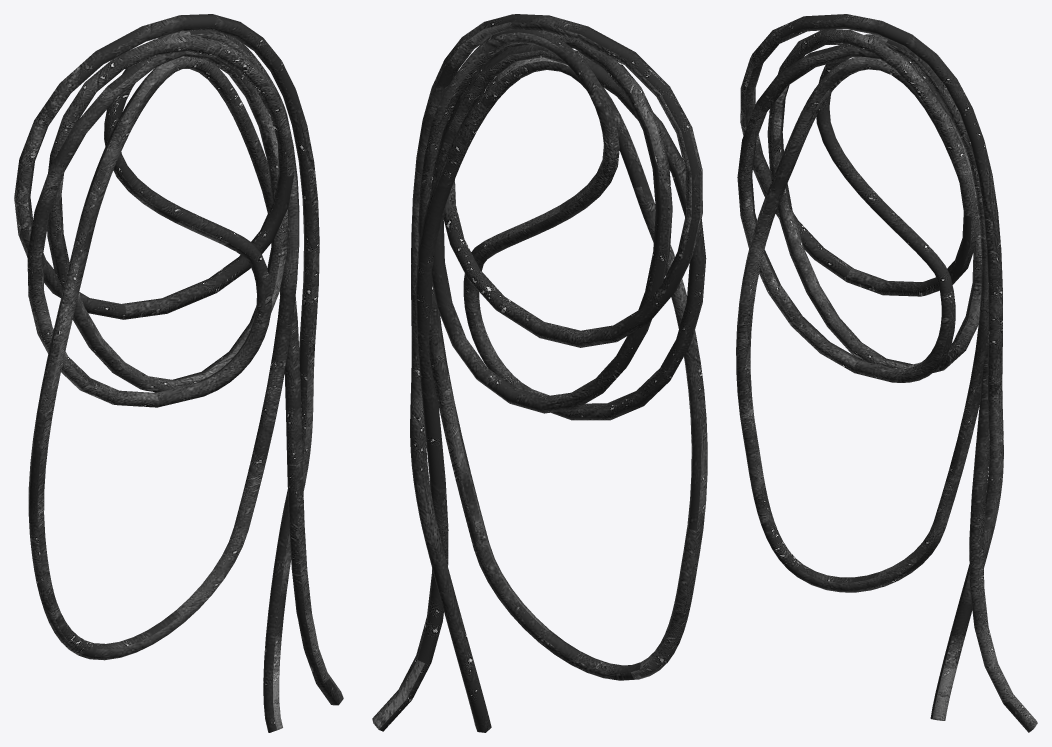
File: Cable7.fbx
3 renders of one model, left to right at view 1: azimuth 30°, elevation 25°; view 2: azimuth 150°, elevation 25°; view 3: azimuth 330°, elevation 25°, orthographic. The views are drawn at different scales.
Parts seen in each view (by area): view 1: Wire.003; view 2: Wire.003; view 3: Wire.003.
Boxes of the visible parts, <box> form: Wire.003: <box>14,14,343,732</box>; Wire.003: <box>372,14,707,732</box>; Wire.003: <box>736,14,1037,732</box>.
Size of the model in its own units: 1330 by 2873 by 271.
Materials: 1 (1 with a texture image).
